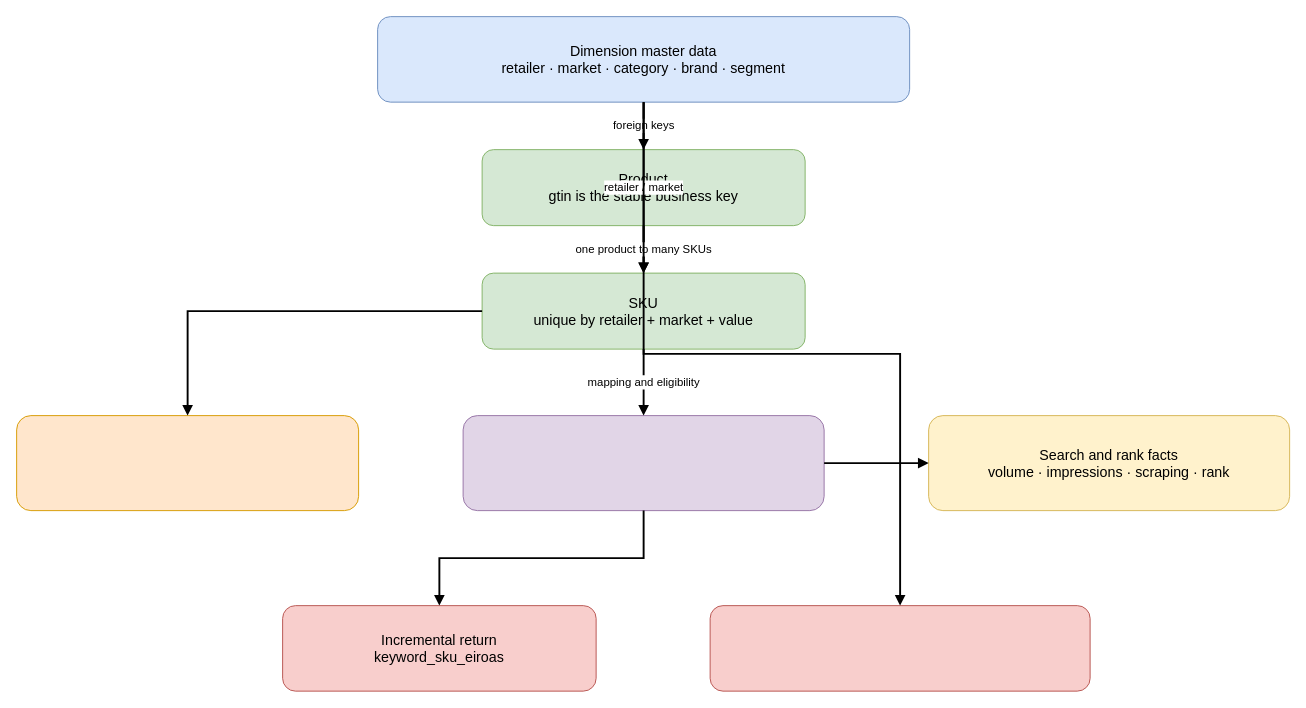
The diagram is 1306 pixels wide and 708 high, and some of its shapes have lost their labels. The shapes that lost their labels are listed below. From the top down, each one's centre as x and y in pixels, then its label:
At point (187, 463): "SKU detail attributes · daily price · item health".
At point (643, 463): "Keyword and classification brand/category/segment links · SKU mapping".
At point (899, 648): "Market share month × category × brand × retailer × market".
